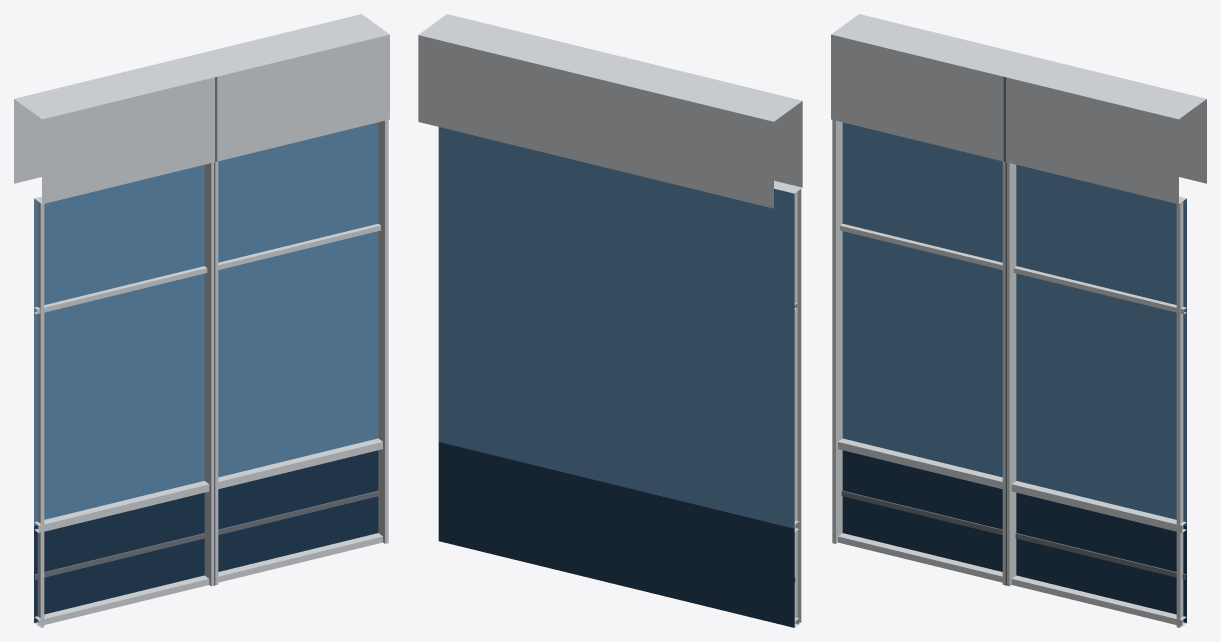
The model's file is top-w1_close.fbx.
The picture shows the model from 3 angles, left to right: view 1: azimuth 30°, elevation 25°; view 2: azimuth 150°, elevation 25°; view 3: azimuth 330°, elevation 25°; orthographic projection. The views are drawn at different scales.
Visible parts, largest first — view 1: a2002/200/top-w1_close; view 2: a2002/200/top-w1_close; view 3: a2002/200/top-w1_close.
Part boxes in pixels (left/top/right/bottom): a2002/200/top-w1_close: left=14, top=14, right=389, bottom=627; a2002/200/top-w1_close: left=418, top=14, right=802, bottom=627; a2002/200/top-w1_close: left=831, top=14, right=1206, bottom=627.
Bounding box in the file's own units: 3 × 4.2 × 0.421.
